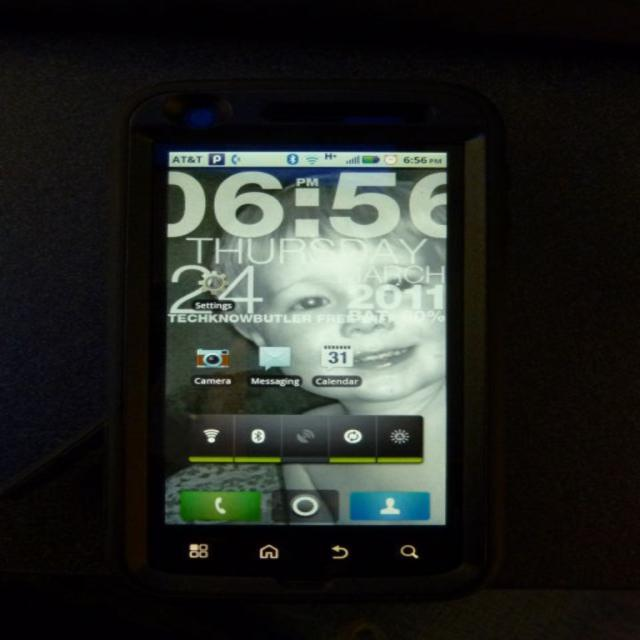Mobile-phone: (102, 81, 486, 592)
